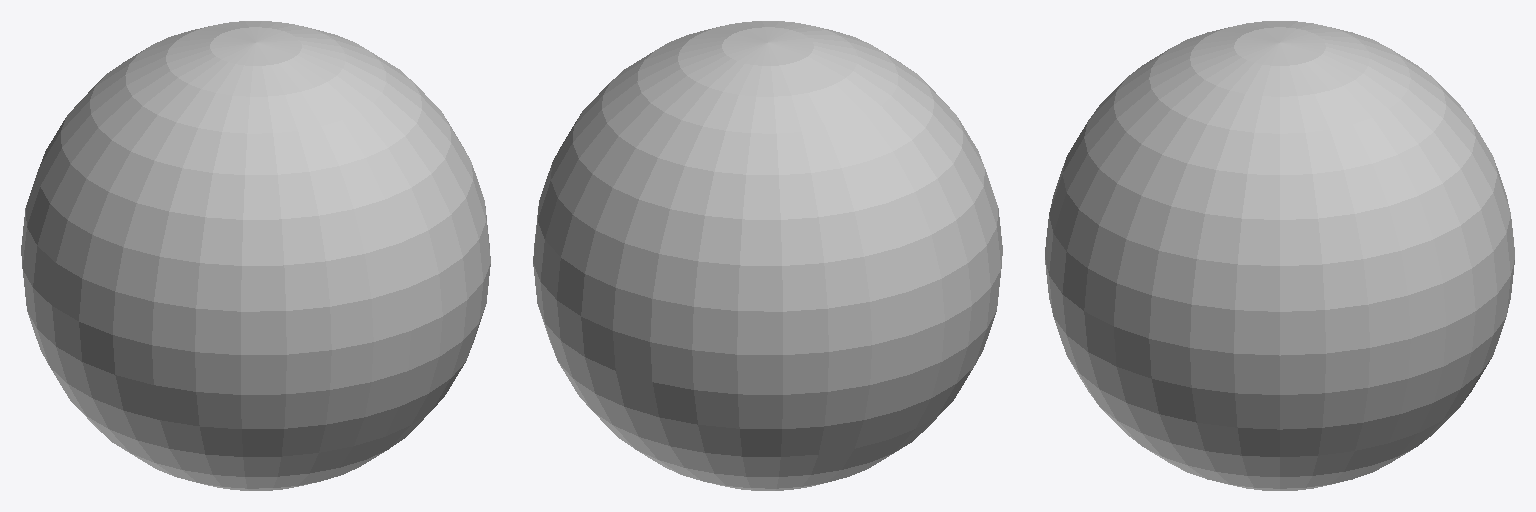
The model's file is ball.obj.
3 views of the same model, side by side, from view 1: azimuth 30°, elevation 25°; view 2: azimuth 150°, elevation 25°; view 3: azimuth 270°, elevation 25° (orthographic).
Visible parts, largest first — view 1: Sphere; view 2: Sphere; view 3: Sphere.
Part boxes in pixels (bbox=[...]): Sphere: bbox=[21, 21, 490, 490]; Sphere: bbox=[533, 21, 1002, 490]; Sphere: bbox=[1045, 21, 1514, 490].
Bounding box in the file's own units: 0.4 × 0.4 × 0.4.